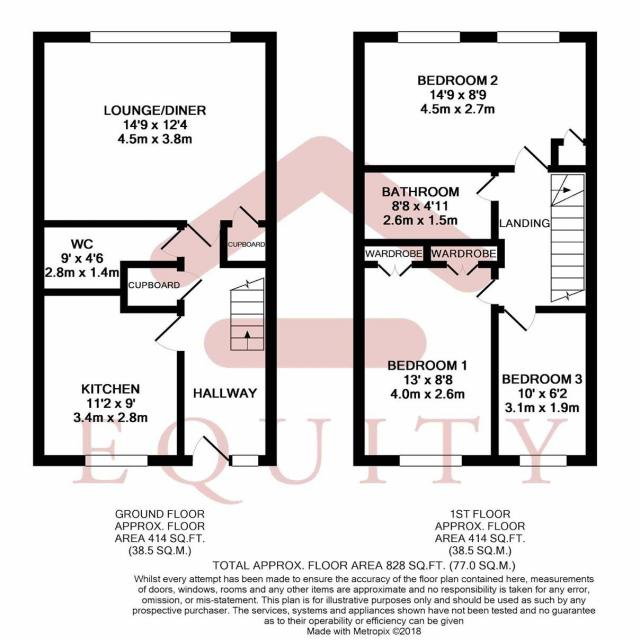DOOR: (190, 430, 232, 467), (151, 311, 185, 354), (511, 142, 550, 173), (499, 305, 537, 334), (157, 223, 187, 259), (473, 171, 501, 203), (474, 277, 499, 305)
ROOM: (33, 30, 277, 249), (353, 238, 505, 466), (353, 31, 597, 173), (32, 288, 184, 466), (491, 305, 597, 467)
WINDOW: (87, 26, 235, 46), (83, 451, 150, 471), (397, 452, 465, 469), (496, 28, 563, 45), (395, 29, 462, 45), (516, 452, 569, 468)
